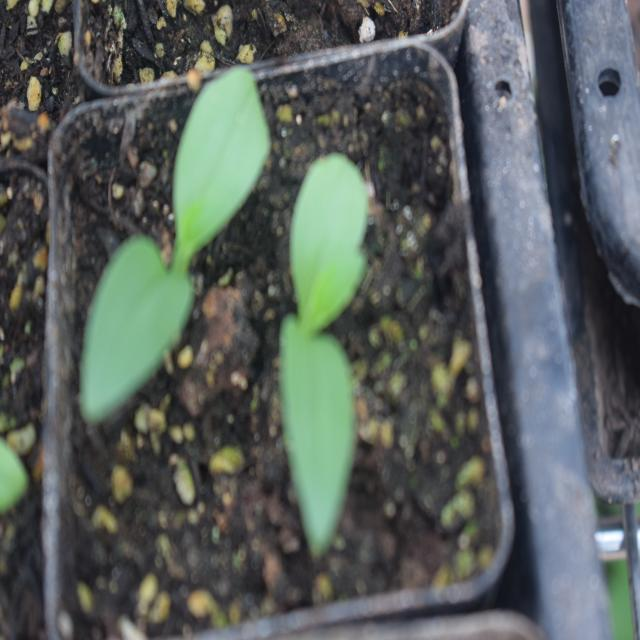Common Dayflower: (83, 39, 275, 416), (283, 128, 382, 546)
